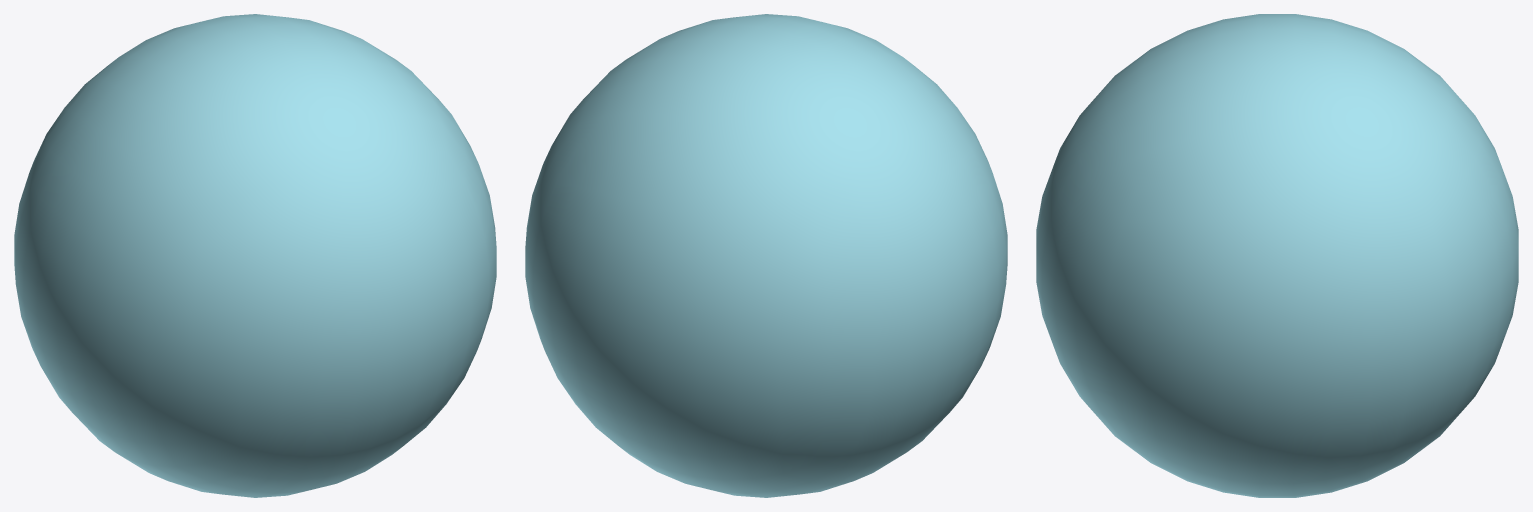
The model's file is 36_Kr_BaS.fbx.
3 renders of one model, left to right at view 1: azimuth 30°, elevation 25°; view 2: azimuth 150°, elevation 25°; view 3: azimuth 270°, elevation 25°, orthographic.
Parts seen in each view (by area): view 1: KR.002; view 2: KR.002; view 3: KR.002.
Part boxes in pixels (<box>): KR.002: <box>14,14,496,497</box>; KR.002: <box>525,14,1007,497</box>; KR.002: <box>1036,14,1518,497</box>.
Size of the model in its own units: 109 by 109 by 109.
